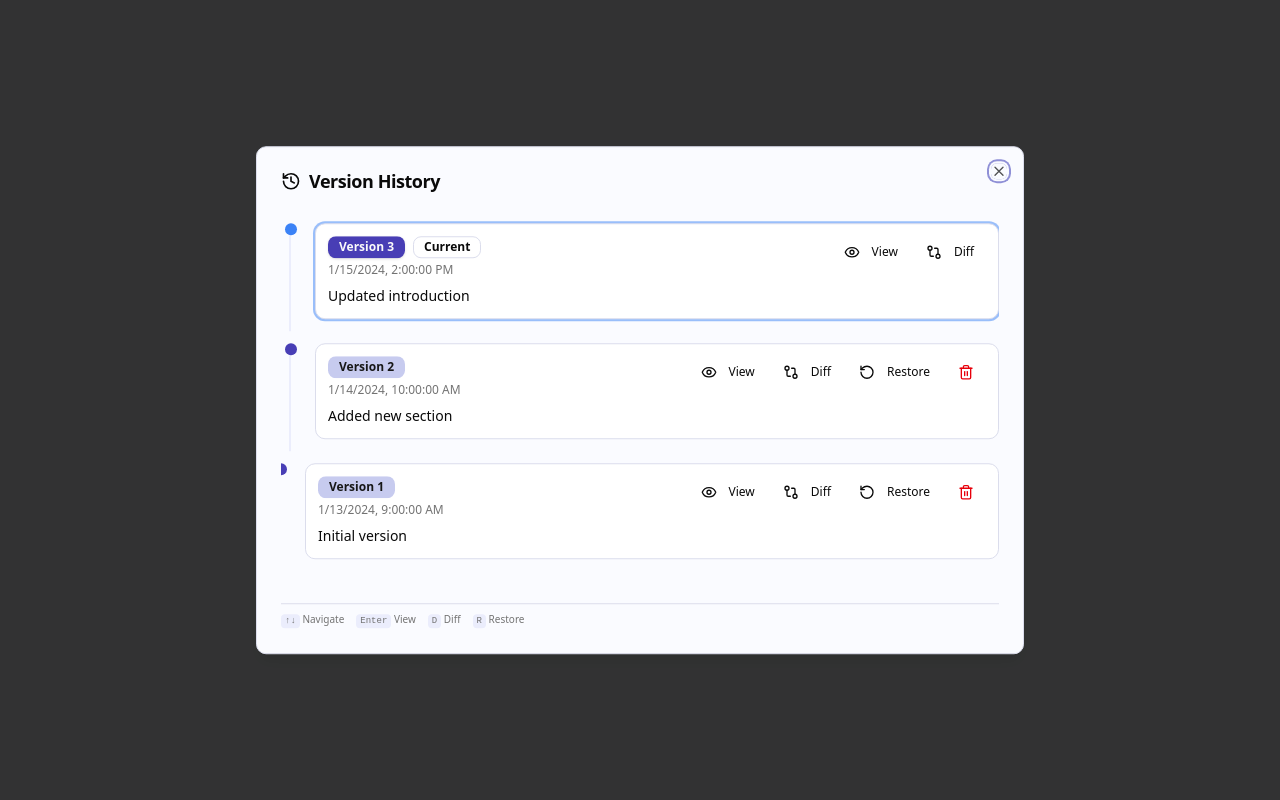
VersionHistory › Restore › should show restore confirmation dialog
The image size is (1280, 800).
Expected: the text "Version 2" is shown, [328, 356, 405, 378]
Click Restore on version 2
What coordinates should you click on to do the following:
click the button "Restore" in the row of "1/14/2024, 10:00:00 AM"
I would click on:
 (894, 372)
Its box is [847, 356, 942, 388].
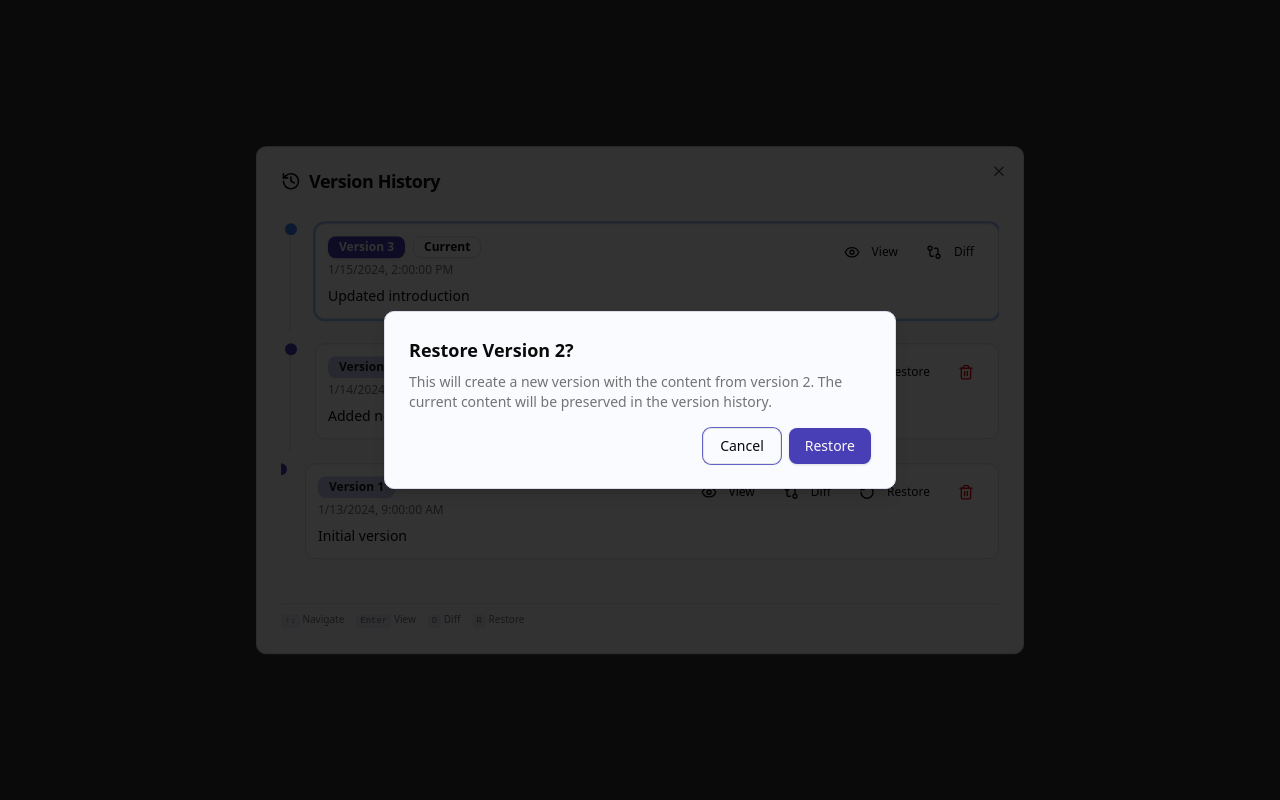
Expected: the heading "Restore Version 2?" is shown, [409, 338, 574, 362]
Expected: the text "This will create a new version with the content" is shown, [409, 372, 842, 411]
